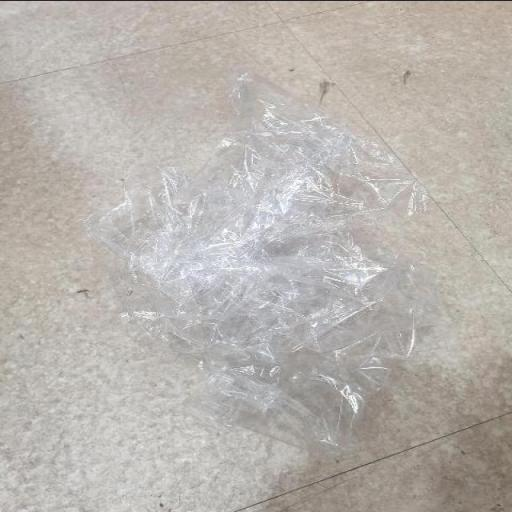plastic-bag: (80, 69, 444, 450)
